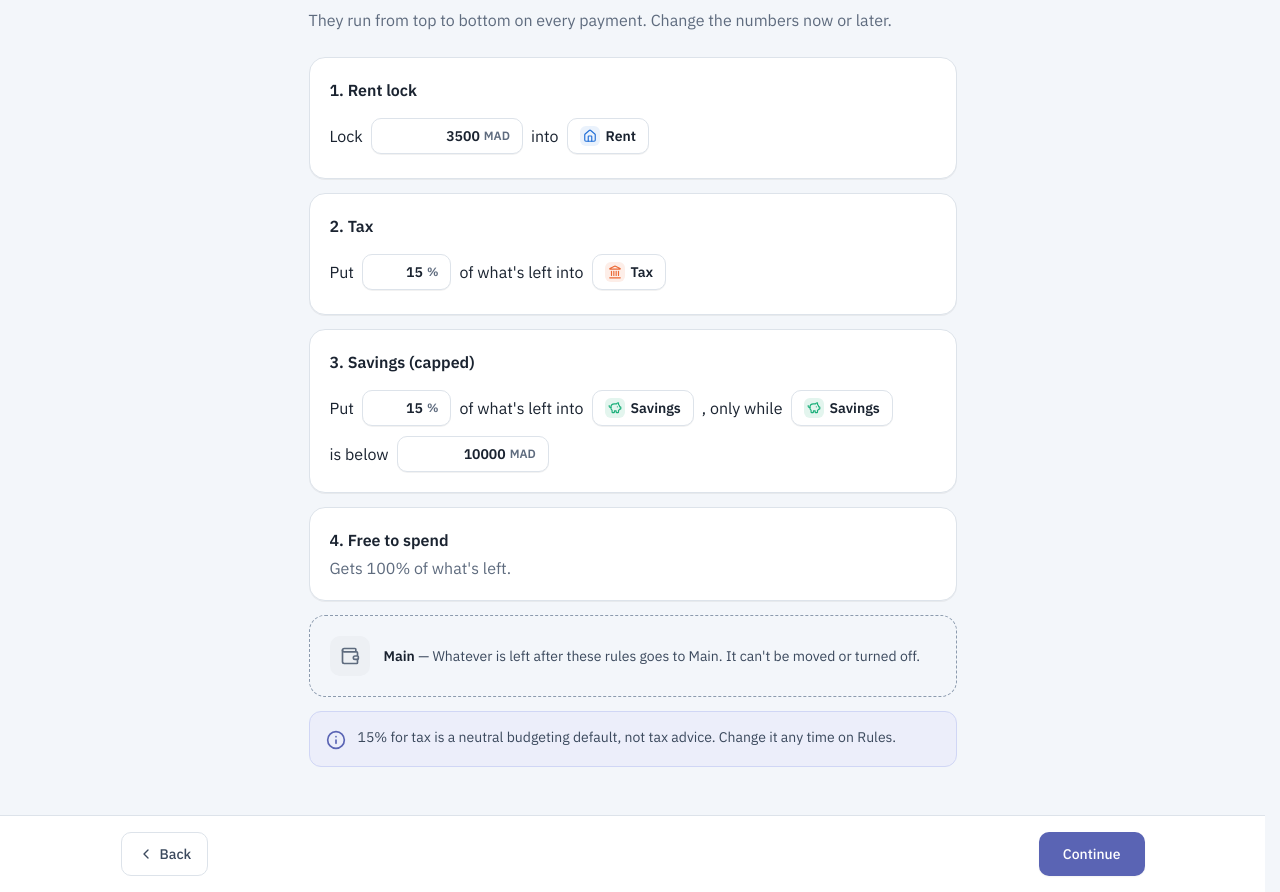
it: PIN: rules gate (Step 4) › valid rule values continue to the payment preview
(page scrolled)
Click the button "Continue" at (1092, 854), box [1039,832,1144,876]
(page scrolled)
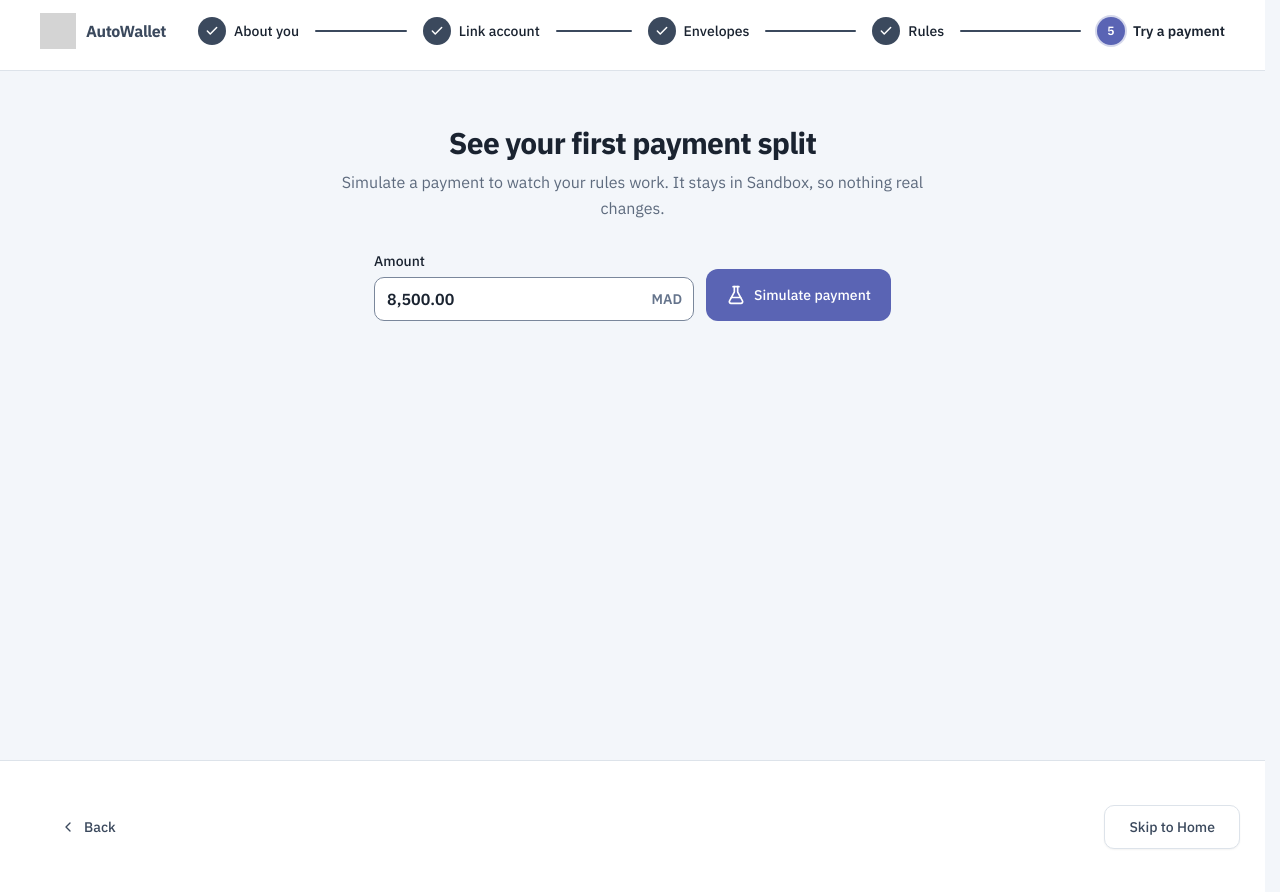
Result: the field labelled "Amount" is shown at [374,277,694,321]
